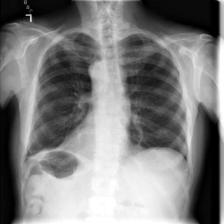normal: (21, 26, 192, 166)
